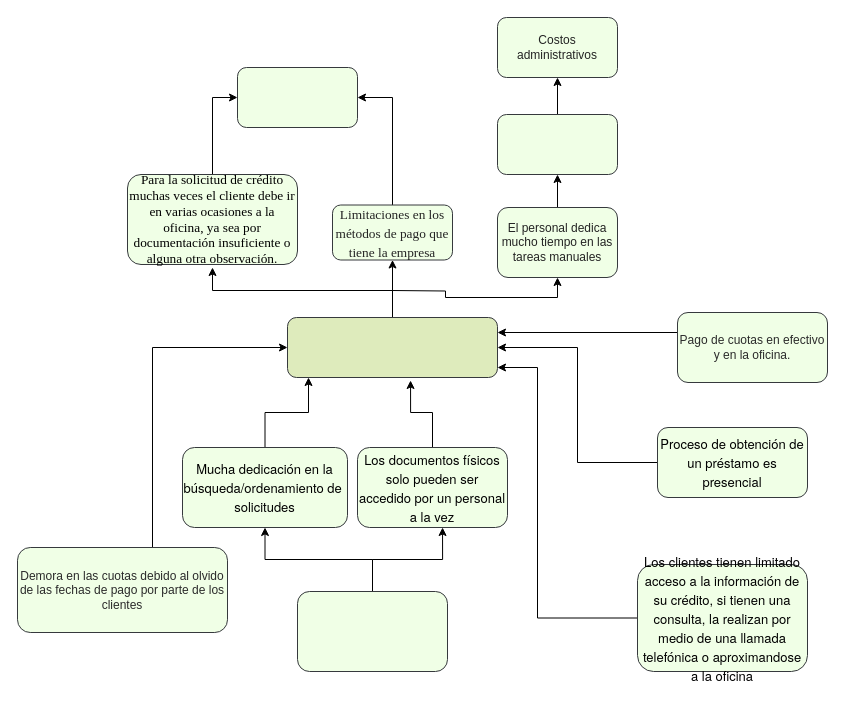
The diagram is 845 pixels wide and 702 high, and some of its shapes have lost their labels. Each missing label, with the centre of its shape:
"Administración fisica de los documentos" goes at point 372,631.
"Administración manual y presencial de préstamos" goes at point 392,347.
"Deficiencia en la gestión" goes at point 557,144.
"Deficiencias en la atención al cliente" goes at point 297,97.
